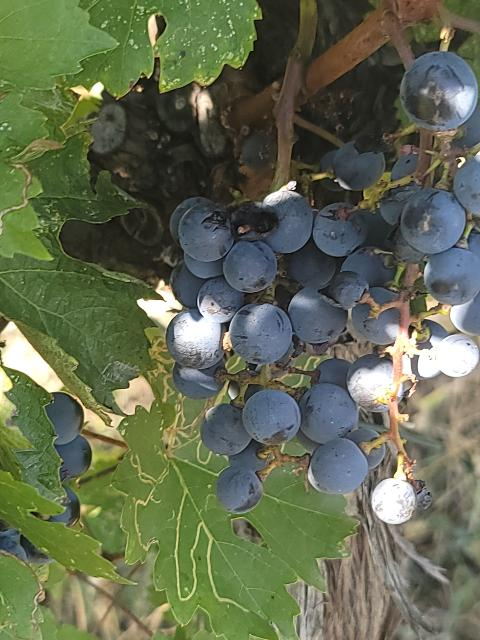grapes: (314, 29, 480, 524), (166, 190, 350, 396), (200, 359, 384, 514)
